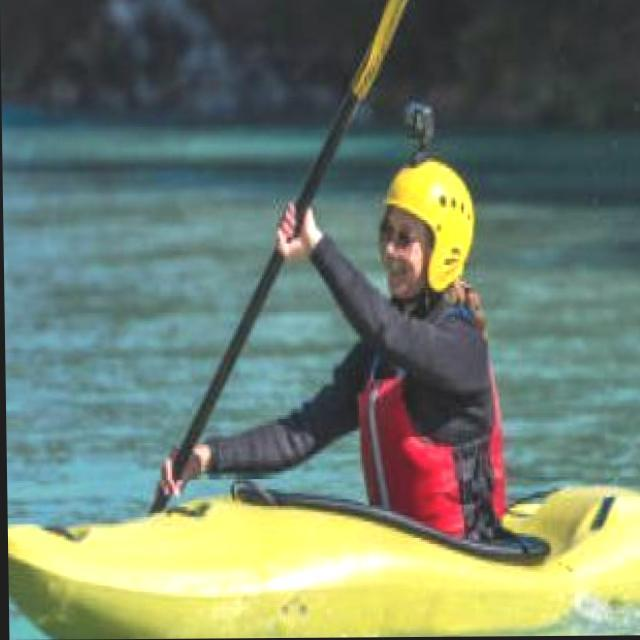kayak: (6, 485, 640, 640)
